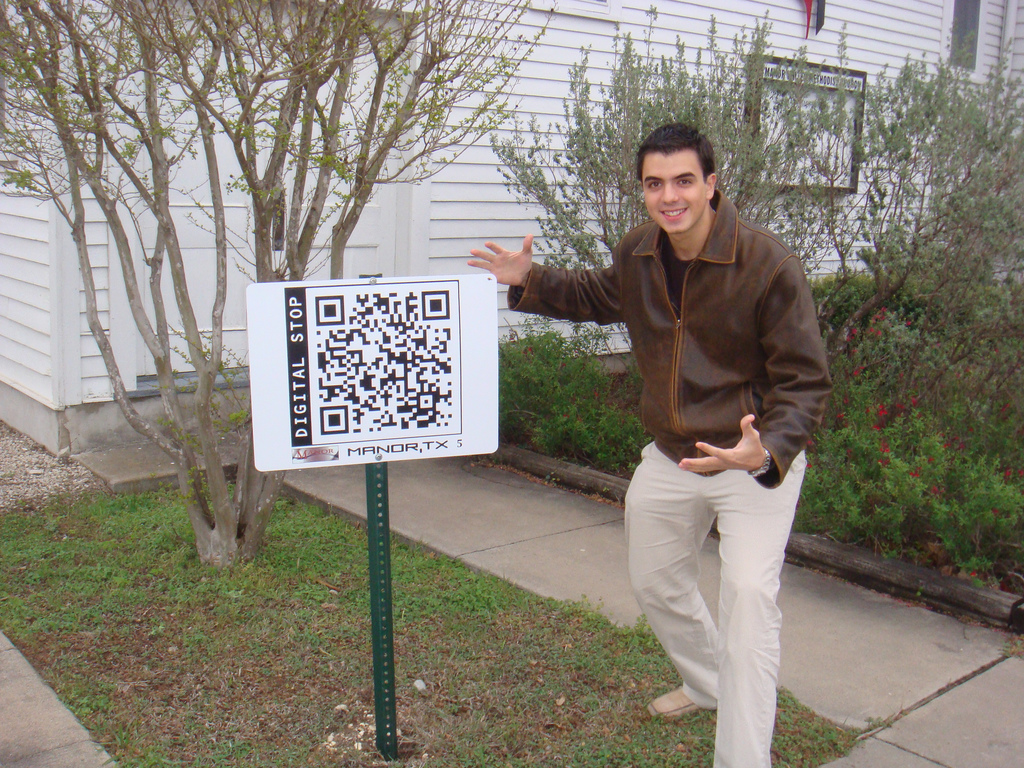QR-CODE: (315, 290, 451, 435)
